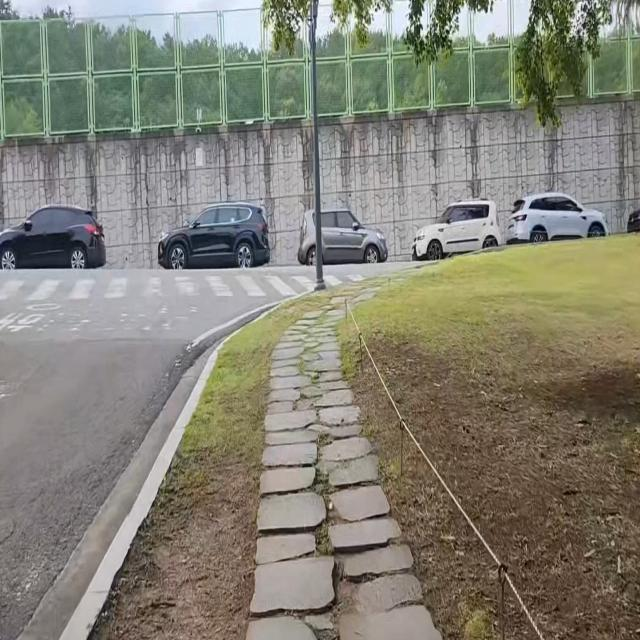obstacle: (409, 183, 619, 264), (154, 196, 278, 276), (296, 203, 390, 271), (309, 13, 323, 284)
road: (0, 264, 402, 640)
sidewalk: (246, 295, 440, 640)
